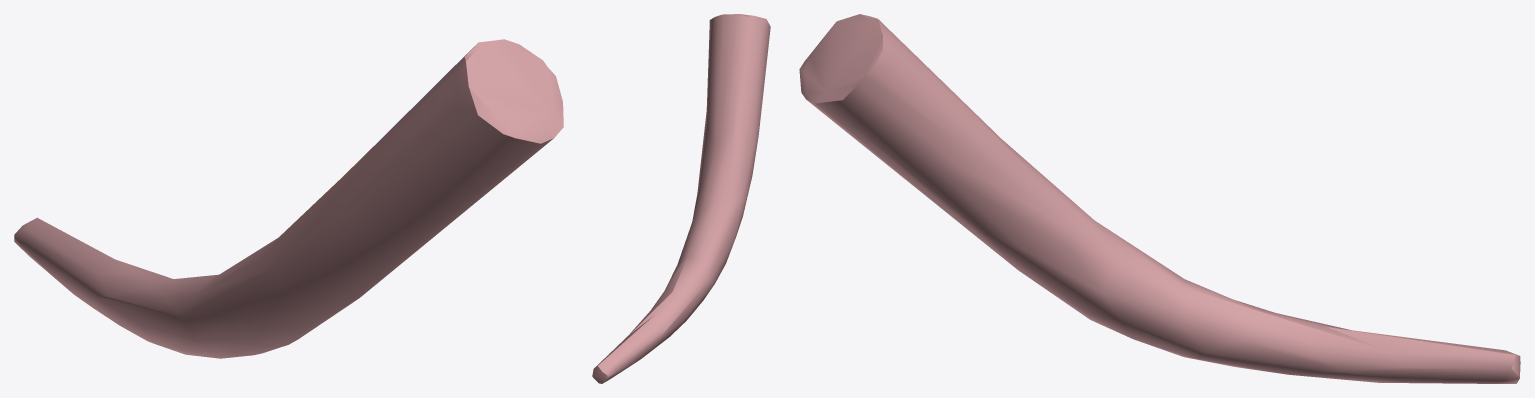
Rendered from fma68233_fj6514.glb.
The picture shows the model from 3 angles, left to right: view 1: azimuth 30°, elevation 25°; view 2: azimuth 150°, elevation 25°; view 3: azimuth 270°, elevation 25°; orthographic projection. The views are drawn at different scales.
Visible parts, largest first — view 1: FMA68233_FJ6514; view 2: FMA68233_FJ6514; view 3: FMA68233_FJ6514.
Part boxes in pixels (x1,y1,x2,y2): FMA68233_FJ6514: (14, 39, 563, 358); FMA68233_FJ6514: (592, 14, 770, 383); FMA68233_FJ6514: (799, 14, 1520, 383).
Bounding box in the file's own units: 0.0113 × 0.0264 × 0.0431.
